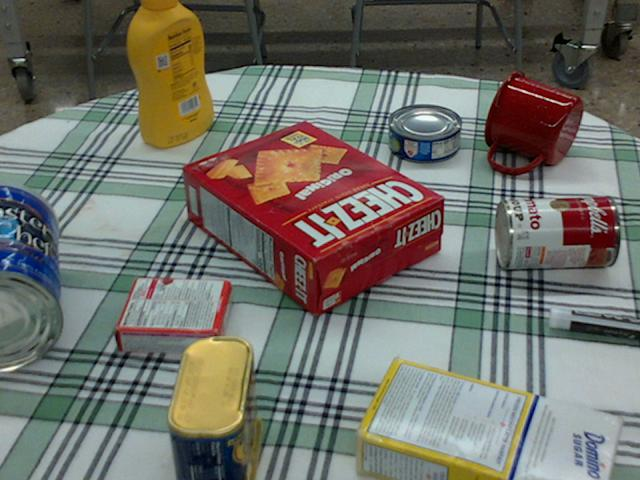cracker_box: (181, 119, 441, 315)
gelatin_box: (116, 275, 231, 355)
large_marker: (549, 305, 639, 340)
master_chef_can: (0, 181, 64, 370)
mug: (483, 70, 581, 173)
mustard_bottle: (128, 0, 213, 147)
potted_meat_can: (165, 334, 261, 479)
sugar_box: (350, 361, 621, 479)
tomato_soup_can: (494, 196, 618, 268)
tuna_fish_can: (388, 104, 462, 162)
